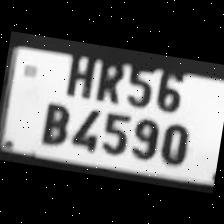0: (155, 114, 196, 167)
4: (68, 99, 104, 151)
5: (120, 54, 158, 108), (94, 104, 132, 156)
6: (150, 60, 190, 111)
9: (126, 110, 162, 161)
B: (35, 94, 73, 146)
H: (58, 39, 101, 98)
R: (90, 49, 128, 103)
